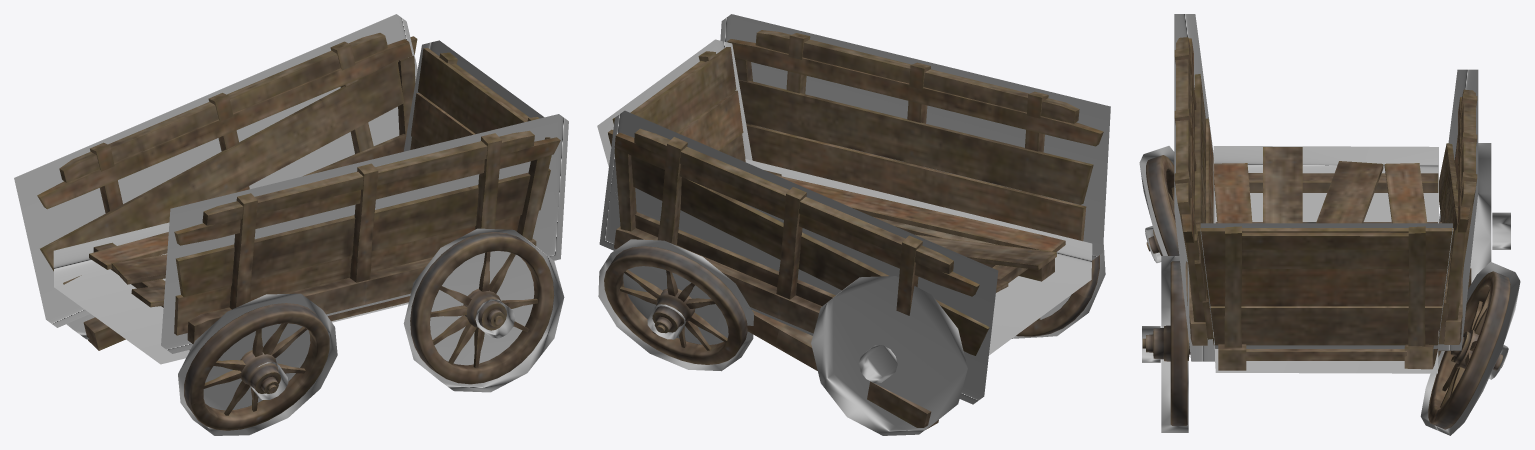
File: SM_Wooden_Cart_01b.gltf
3 views of the same model, side by side, from view 1: azimuth 30°, elevation 25°; view 2: azimuth 150°, elevation 25°; view 3: azimuth 270°, elevation 25° (orthographic). The views are drawn at different scales.
Visible parts, largest first — view 1: SM_Wooden_Cart_01b_LOD0, SM_Wooden_Cart_01b_ConvexHulls; view 2: SM_Wooden_Cart_01b_LOD0, SM_Wooden_Cart_01b_ConvexHulls; view 3: SM_Wooden_Cart_01b_LOD0, SM_Wooden_Cart_01b_ConvexHulls.
Boxes of the visible parts, x1,y1,x2,y2 form: SM_Wooden_Cart_01b_LOD0: (37, 33, 560, 430); SM_Wooden_Cart_01b_ConvexHulls: (14, 14, 568, 435); SM_Wooden_Cart_01b_LOD0: (604, 30, 1103, 429); SM_Wooden_Cart_01b_ConvexHulls: (597, 14, 1110, 435); SM_Wooden_Cart_01b_LOD0: (1142, 37, 1510, 429); SM_Wooden_Cart_01b_ConvexHulls: (1139, 14, 1520, 435).
Size of what is drawn, in the model's own units: 3.49 by 2.06 by 2.67.
Materials: 2 (1 with a texture image).
